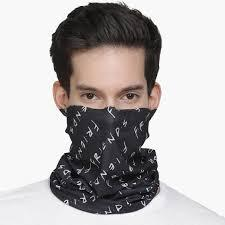scarf-kerchief: (55, 104, 166, 214)
